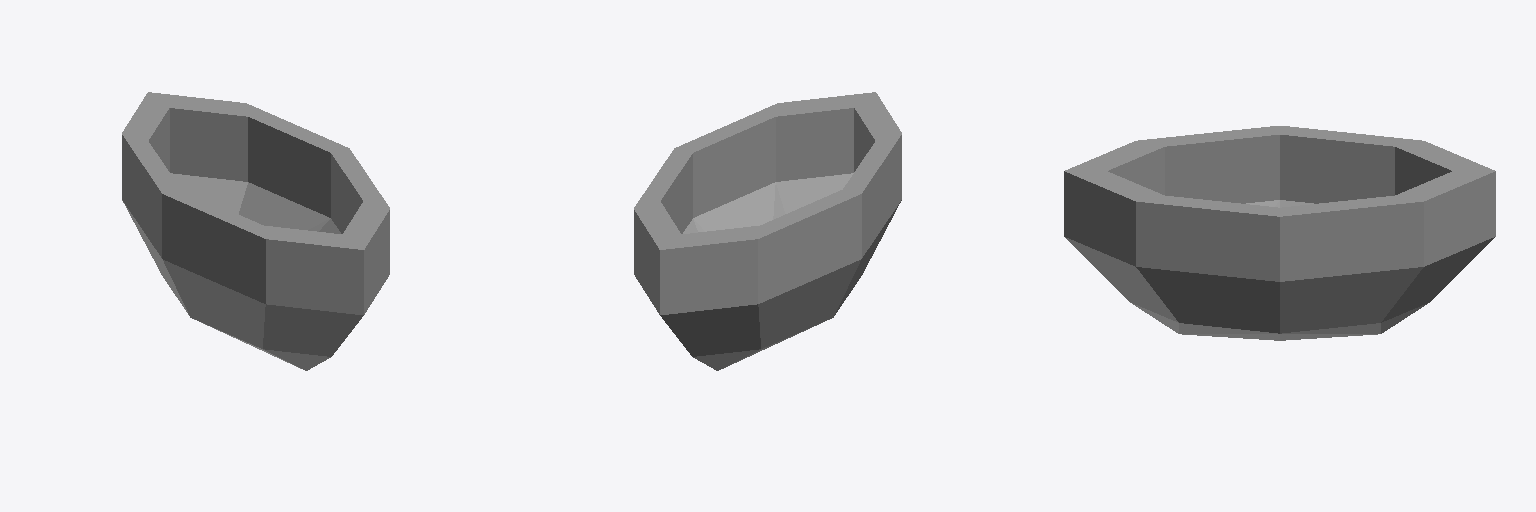
Rendered from boat.obj.
3 views of the same model, side by side, from view 1: azimuth 30°, elevation 25°; view 2: azimuth 150°, elevation 25°; view 3: azimuth 270°, elevation 25° (orthographic).
Parts seen in each view (by area): view 1: Cube_Cube.001; view 2: Cube_Cube.001; view 3: Cube_Cube.001.
Boxes of the visible parts, x1=… form: Cube_Cube.001: x1=122, y1=92, x2=389, y2=370; Cube_Cube.001: x1=634, y1=92, x2=901, y2=370; Cube_Cube.001: x1=1064, y1=126, x2=1495, y2=340.
Bounding box in the file's own units: 3 × 2.6 × 6.